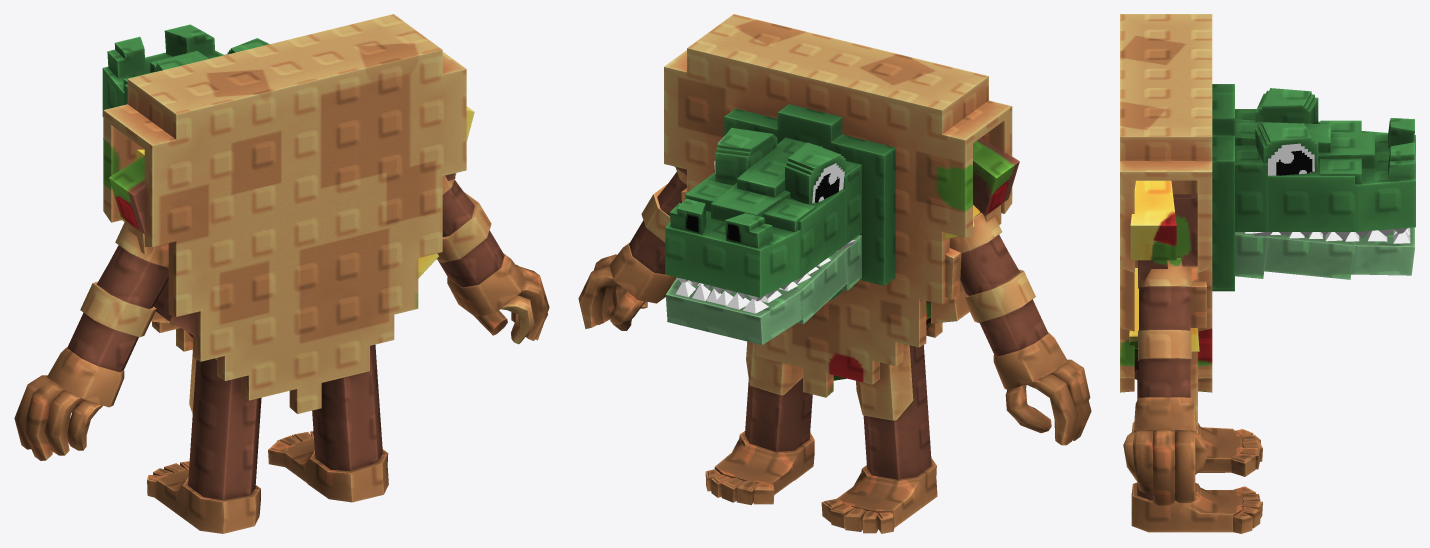
File: Quesadilla Crocodila.fbx
The picture shows the model from 3 angles, left to right: view 1: azimuth 30°, elevation 25°; view 2: azimuth 150°, elevation 25°; view 3: azimuth 270°, elevation 25°; orthographic projection. The views are drawn at different scales.
Parts seen in each view (by area): view 1: Quesadilla Crocodila; view 2: Quesadilla Crocodila; view 3: Quesadilla Crocodila.
Boxes of the visible parts, bbox=[...] form: Quesadilla Crocodila: bbox=[14, 14, 549, 533]; Quesadilla Crocodila: bbox=[578, 14, 1091, 533]; Quesadilla Crocodila: bbox=[1120, 14, 1415, 533].
Size of the model in its own units: 722 by 579 by 376.
